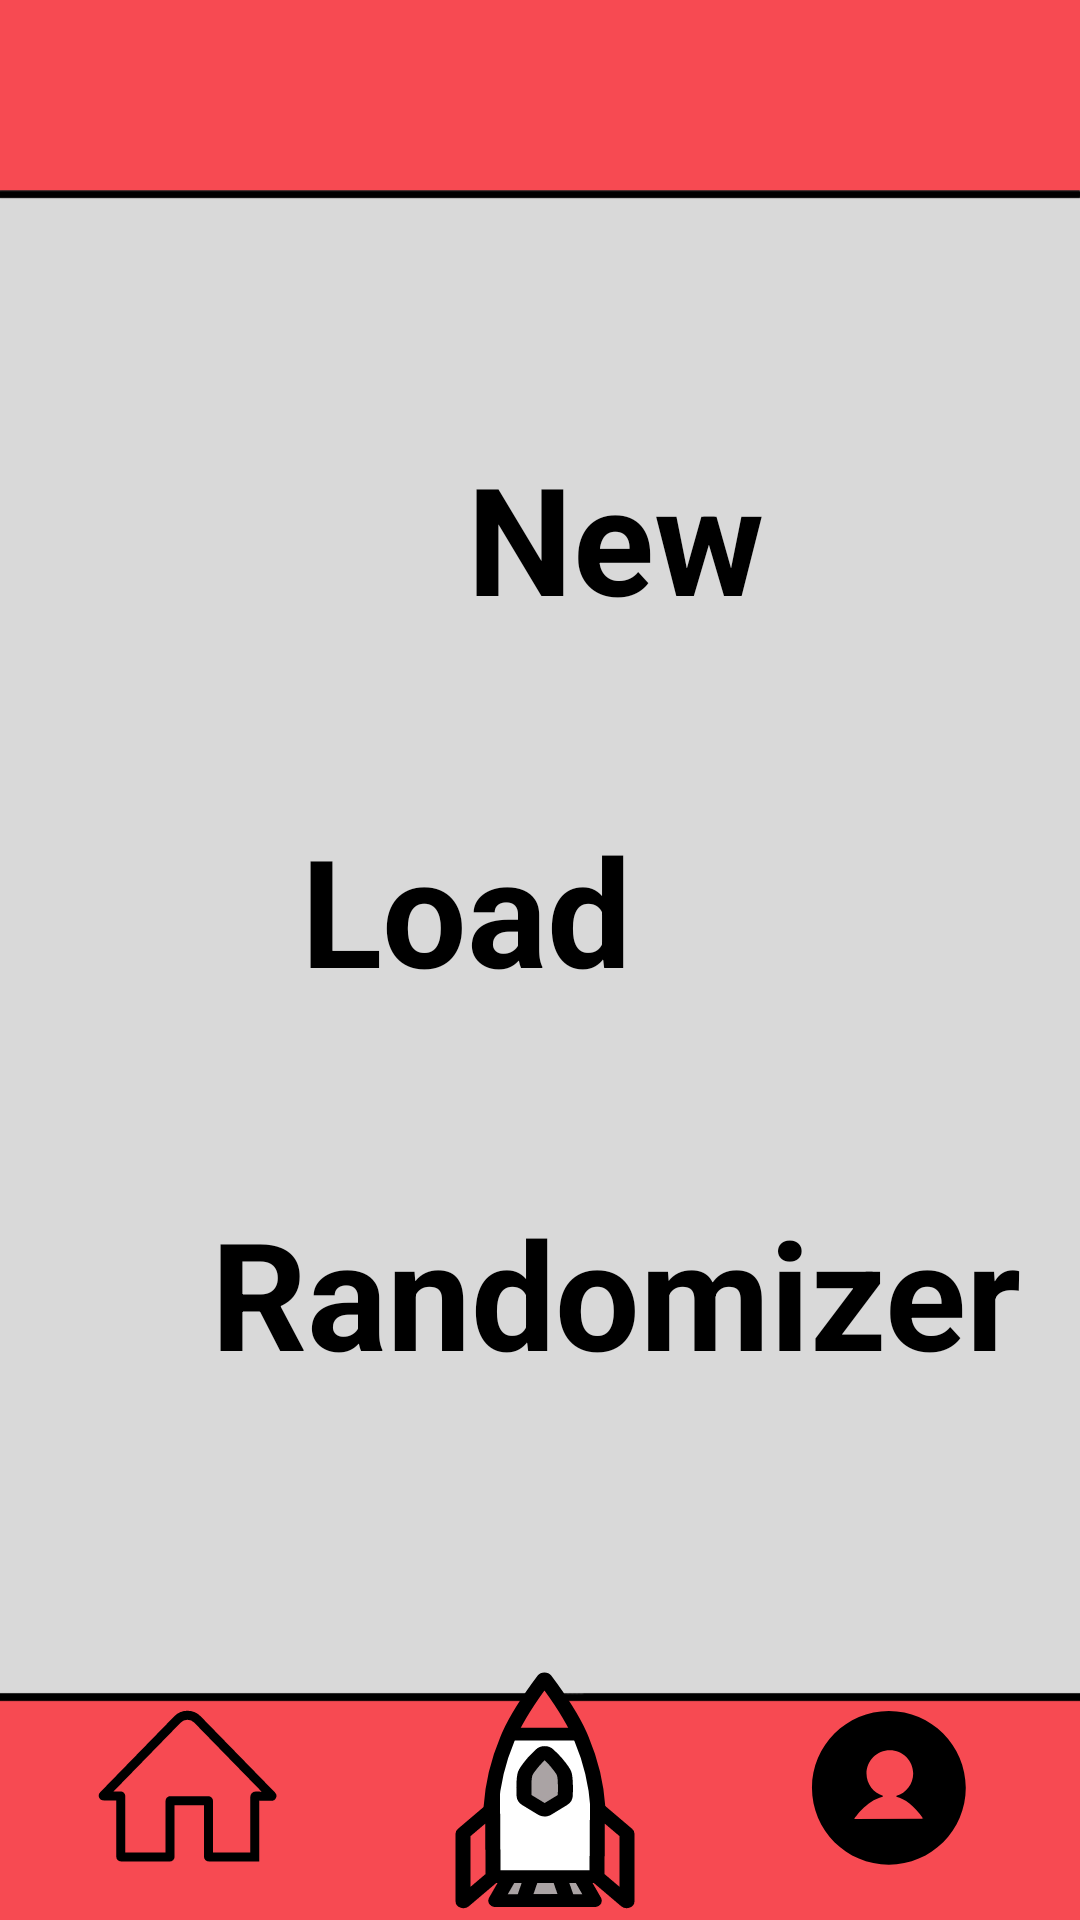

Icon click points for this 1080x1920 phone screenshot, format (x=x, y=y):
home icon: (x=187, y=1786)
Profile Icon: (x=889, y=1788)
Rocket icon: (x=540, y=1792)
